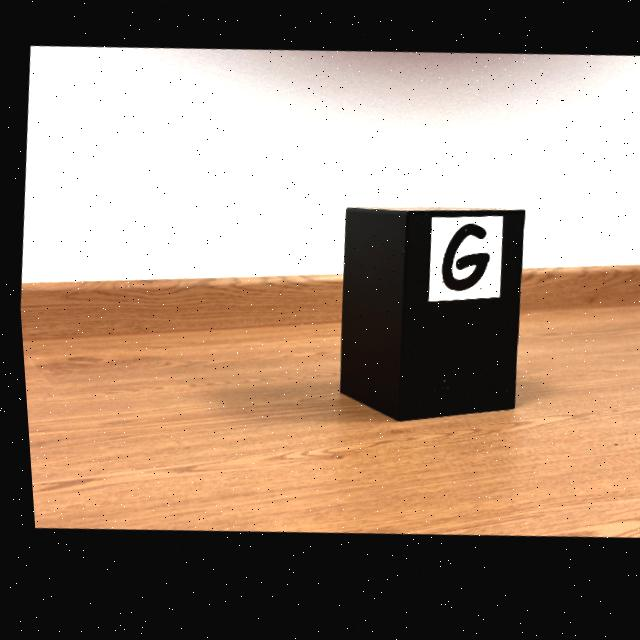G: (438, 232, 486, 298)
